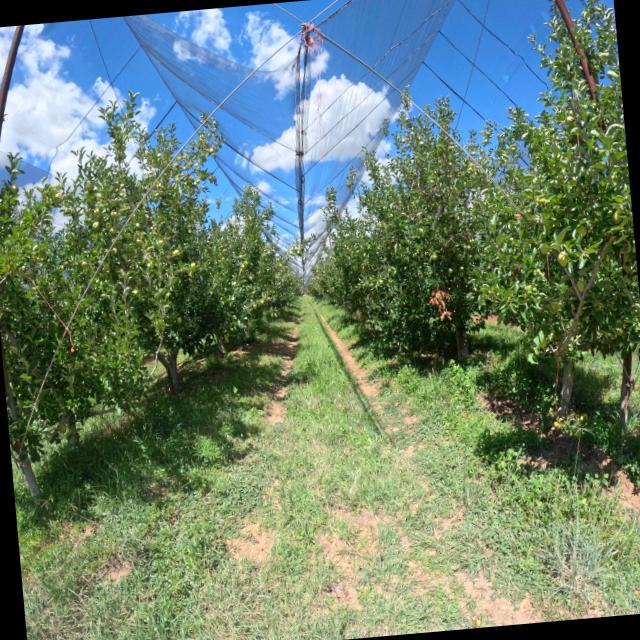-FireBlight-: (427, 288, 455, 324)
